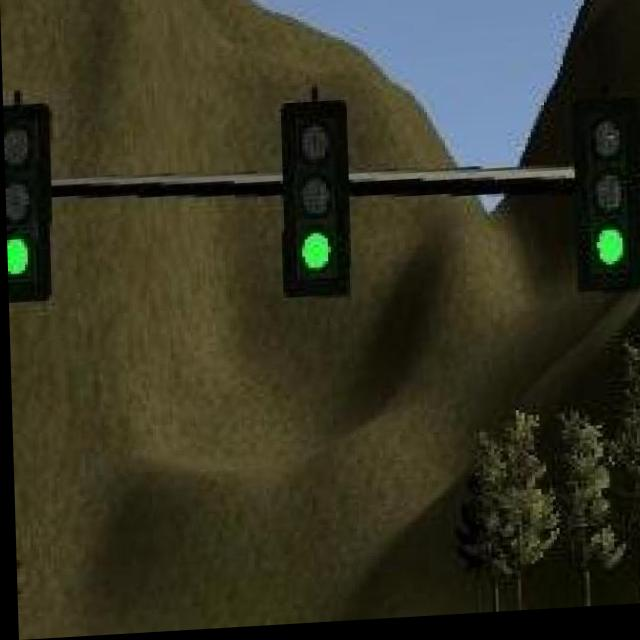green light: (274, 107, 346, 304), (578, 103, 640, 302), (5, 104, 53, 303)
